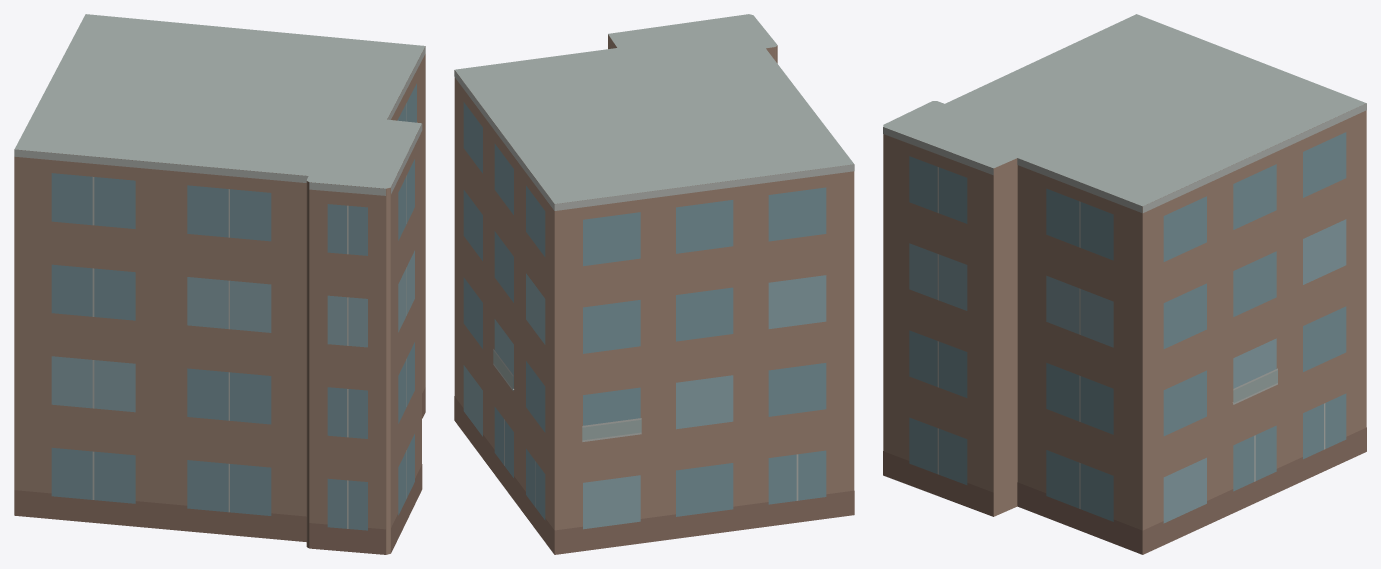
Rendered from survey-upis-32471111.glb.
3 views of the same model, side by side, from view 1: azimuth 30°, elevation 25°; view 2: azimuth 150°, elevation 25°; view 3: azimuth 270°, elevation 25° (orthographic). The views are drawn at different scales.
Parts seen in each view (by area): view 1: survey-upis-32471111.tmp; view 2: survey-upis-32471111.tmp; view 3: survey-upis-32471111.tmp.
Boxes of the visible parts, x1,y1,x2,y2 form: survey-upis-32471111.tmp: (14, 14, 425, 554); survey-upis-32471111.tmp: (454, 14, 854, 554); survey-upis-32471111.tmp: (883, 14, 1366, 554).
Size of the model in its own units: 14.45 by 12.2 by 15.35.
